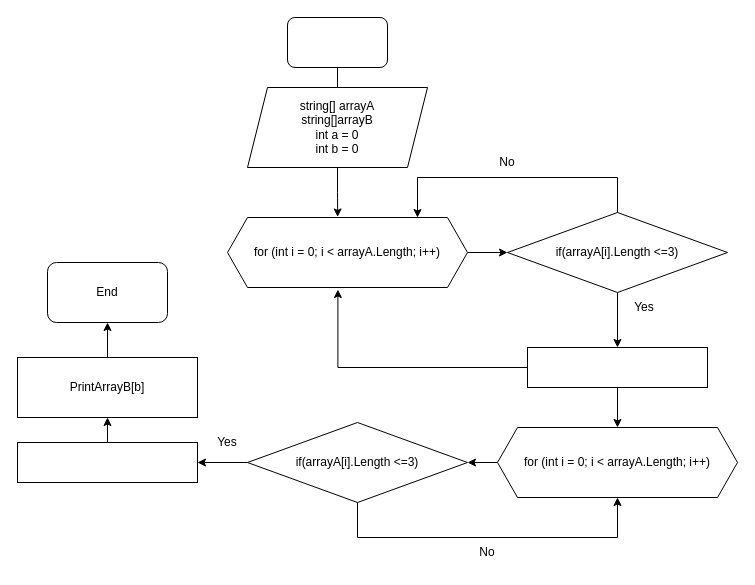
The diagram is 755 pixels wide and 585 high, and some of its shapes have lost their labels. Each missing label, with the box of its shape:
a++: (526, 346, 708, 388)
arrayB[b] = arrayA[i]: (16, 442, 198, 482)
start: (286, 16, 388, 68)
